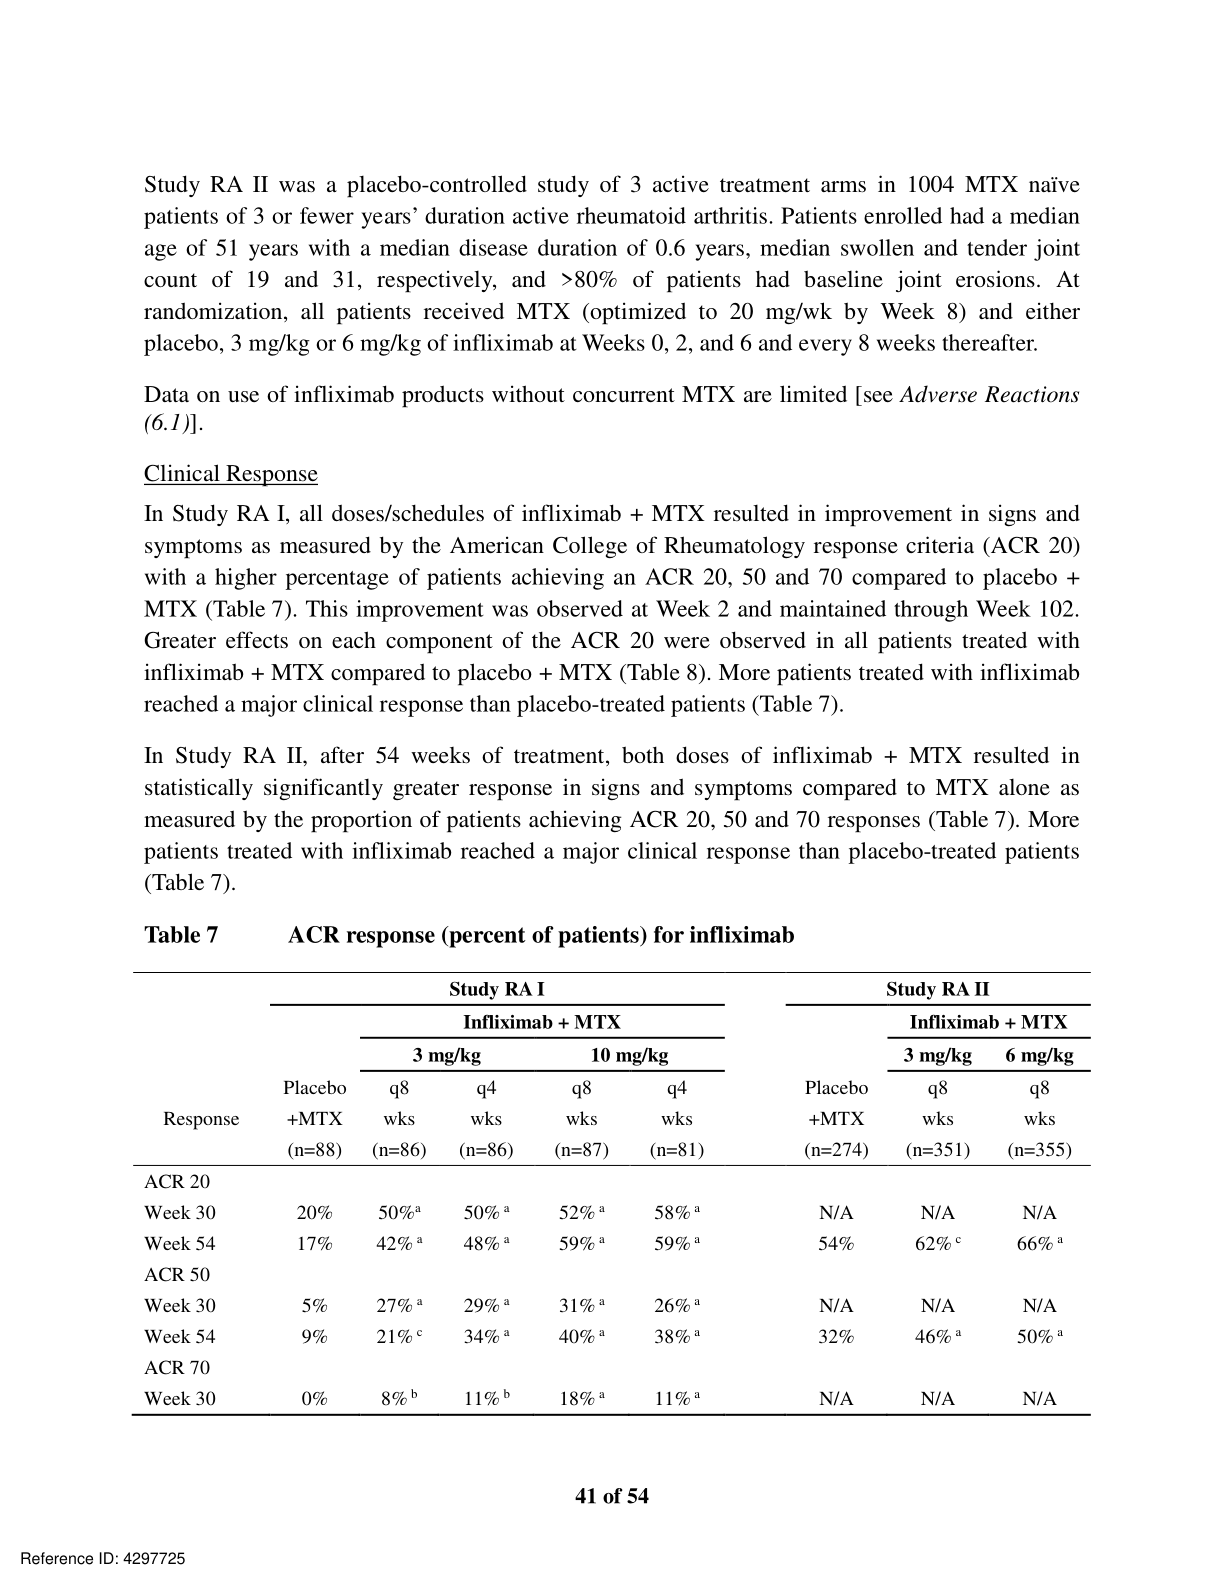partial_lined_merged_cells: (130, 971, 1092, 1417)
